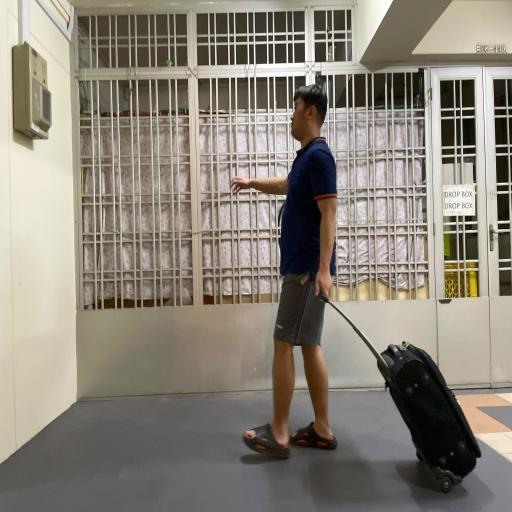person_left: (233, 84, 481, 492)
